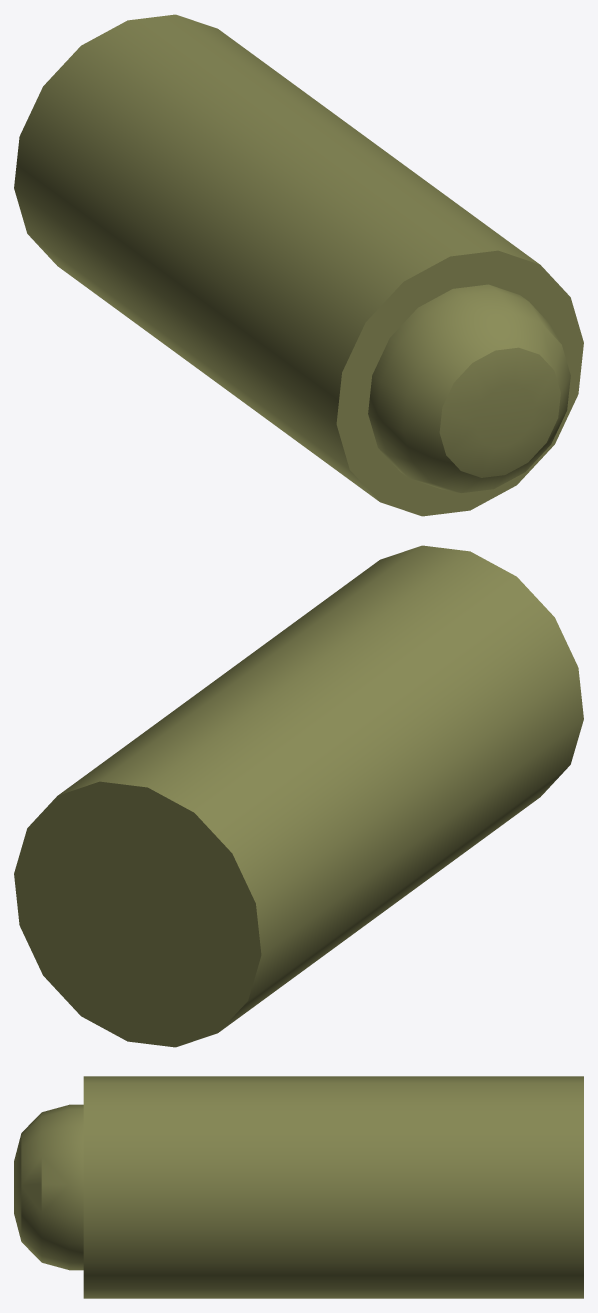
The model's file is bigAxis.obj.
The picture shows the model from 3 angles, top to bottom: view 1: azimuth 30°, elevation 25°; view 2: azimuth 150°, elevation 25°; view 3: azimuth 270°, elevation 25°; orthographic projection. The views are drawn at different scales.
Parts seen in each view (by area): view 1: models/smallAxis; view 2: models/smallAxis; view 3: models/smallAxis.
Part boxes in pixels (bbox=[...]): models/smallAxis: bbox=[14, 14, 583, 516]; models/smallAxis: bbox=[14, 545, 583, 1047]; models/smallAxis: bbox=[14, 1076, 583, 1298].
Bounding box in the file's own units: 0.1595 × 0.1595 × 0.41.
